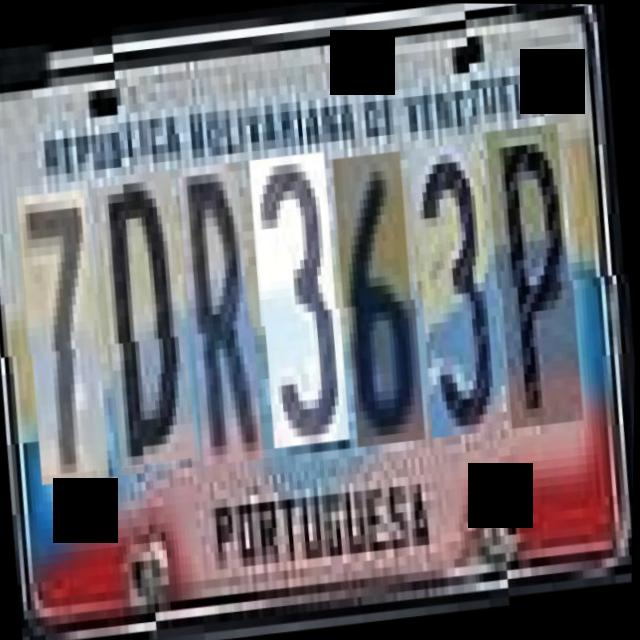3: (246, 151, 359, 449), (405, 142, 514, 439)
6: (330, 150, 435, 449)
7: (13, 179, 118, 476)
D: (93, 169, 205, 468)
P: (485, 132, 593, 439)
R: (176, 162, 272, 466)
